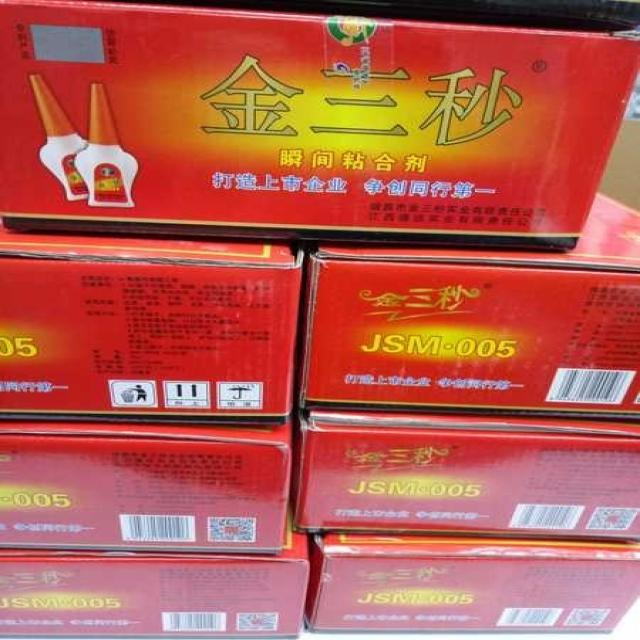box: (0, 2, 636, 253), (298, 192, 639, 420), (0, 229, 299, 424), (291, 410, 639, 543), (0, 419, 287, 551), (306, 535, 639, 635), (0, 533, 307, 639)
